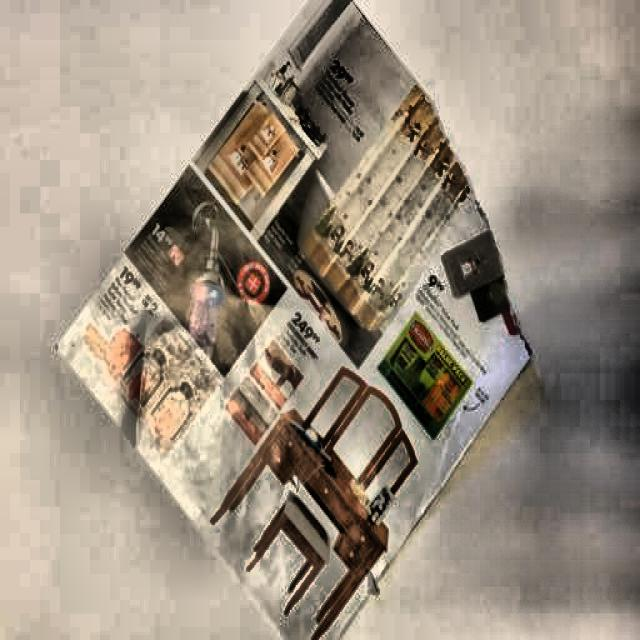paper: (52, 0, 534, 640)
